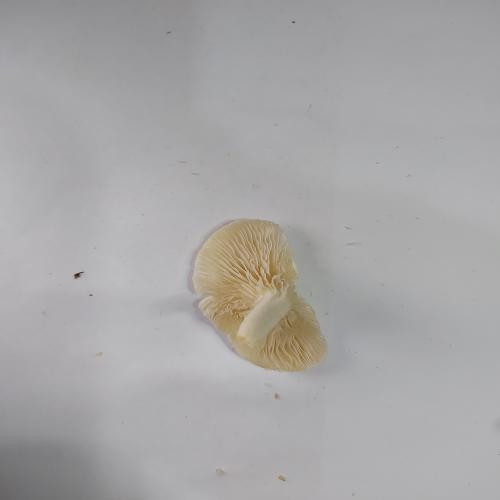Oyster Mushroom: (191, 218, 328, 372)
